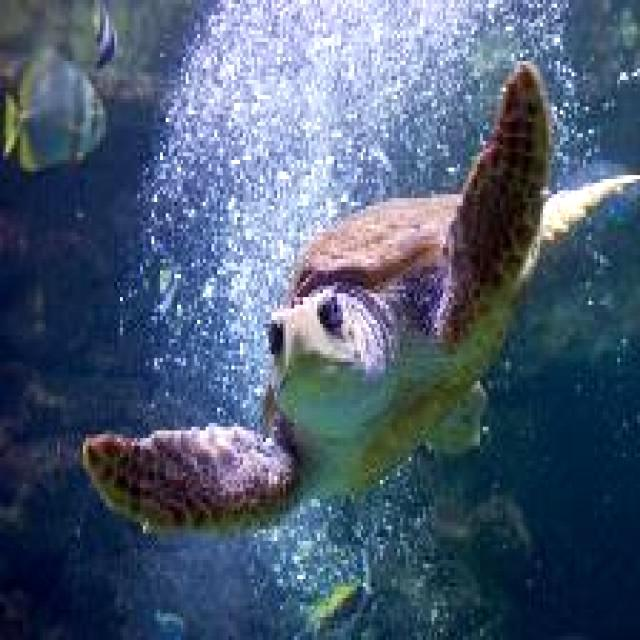Sea turtle: (78, 53, 640, 549)
